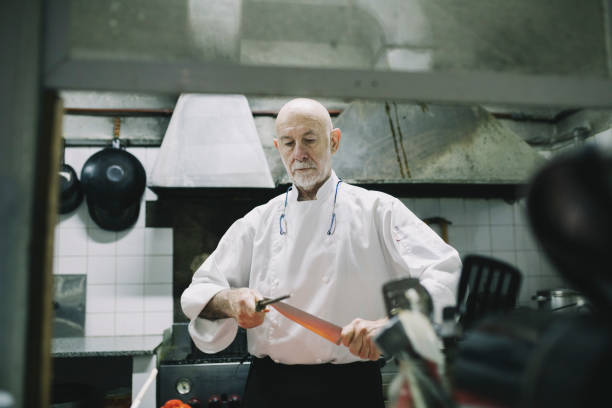knife: (264, 298, 383, 361)
